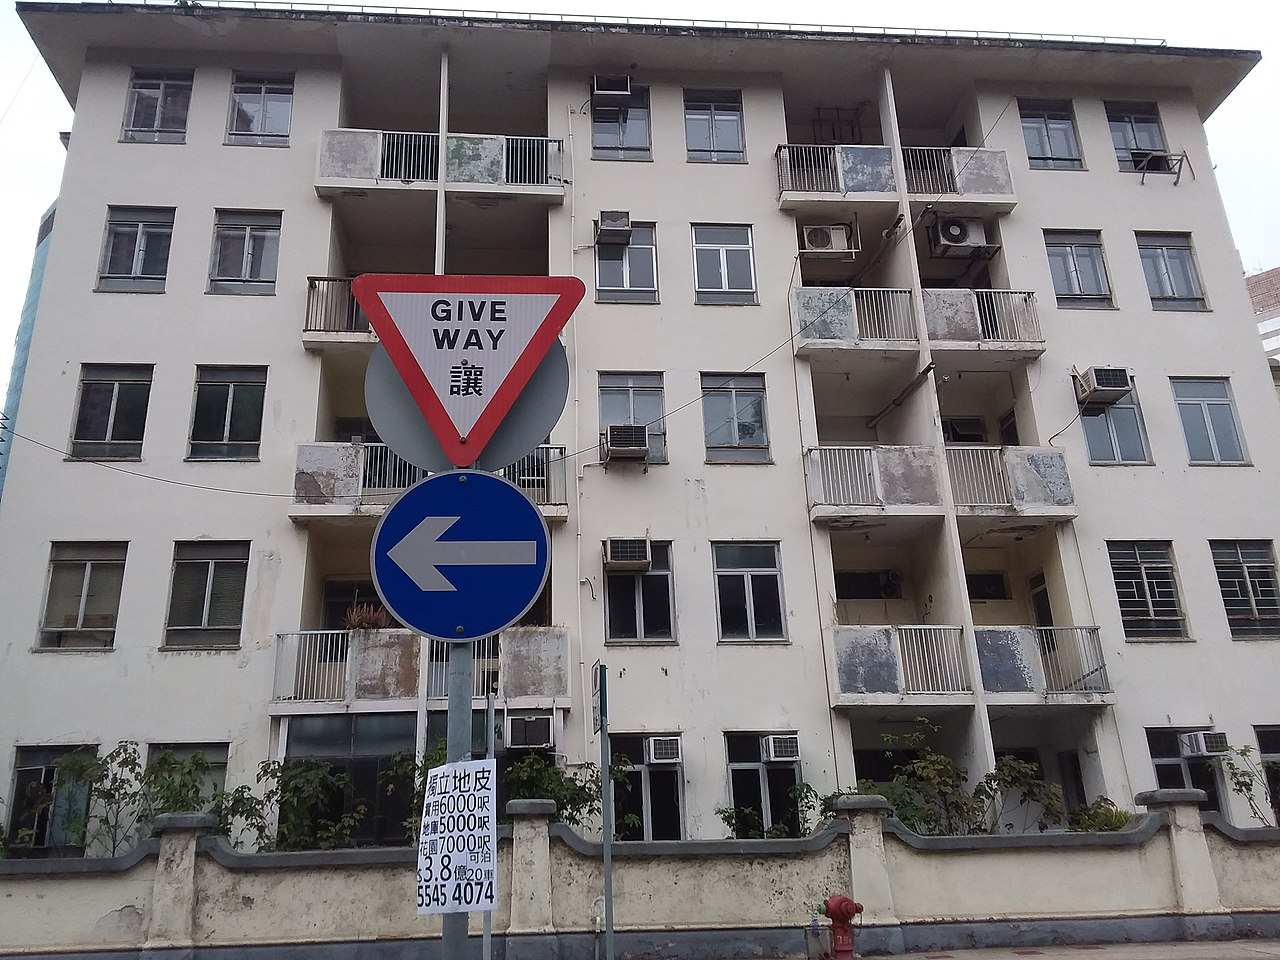Give Way: (347, 268, 604, 472)
Turn Left: (370, 475, 554, 652)
